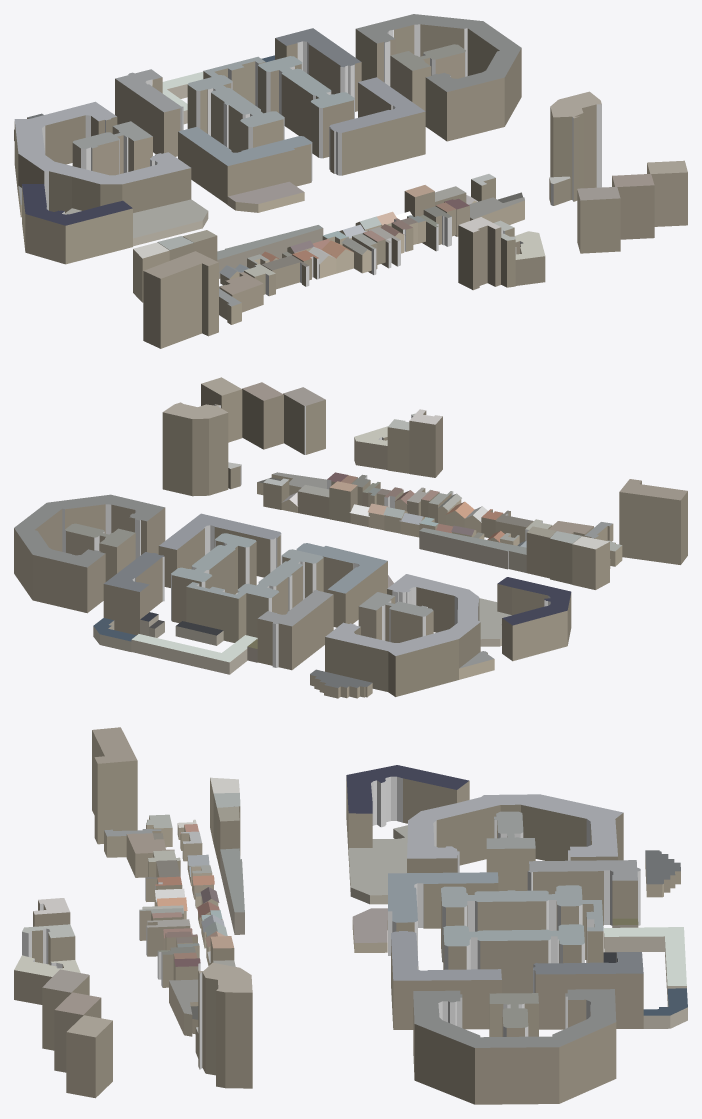
3 renders of one model, top to bottom at view 1: azimuth 30°, elevation 25°; view 2: azimuth 150°, elevation 25°; view 3: azimuth 270°, elevation 25°, orthographic. The views are drawn at different scales.
Parts seen in each view (by area): view 1: tuile; view 2: tuile; view 3: tuile.
Part boxes in pixels (x1,y1,x2,y2): tuile: [14, 14, 687, 348]; tuile: [14, 377, 687, 698]; tuile: [14, 727, 687, 1104].
Bounding box in the file's own units: 266 × 42.54 × 254.
